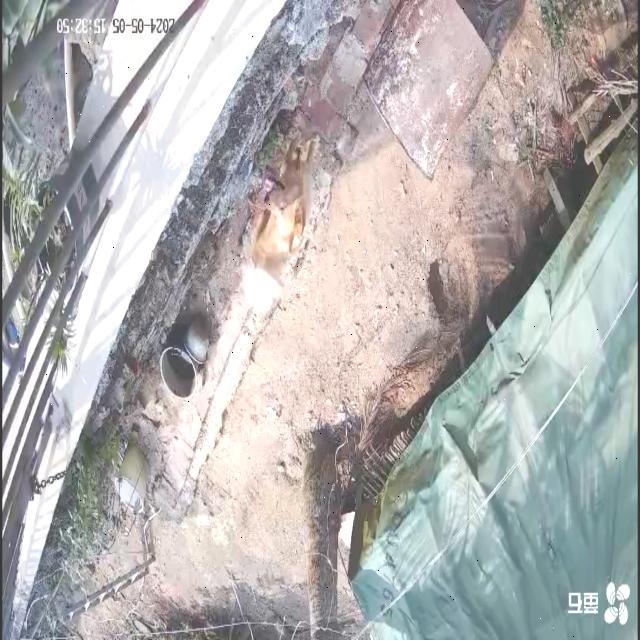dog: (251, 133, 321, 287)
